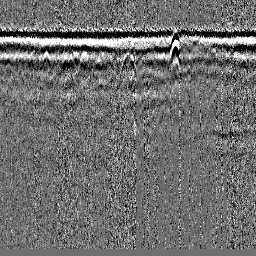cavity: (119, 52, 137, 76)
